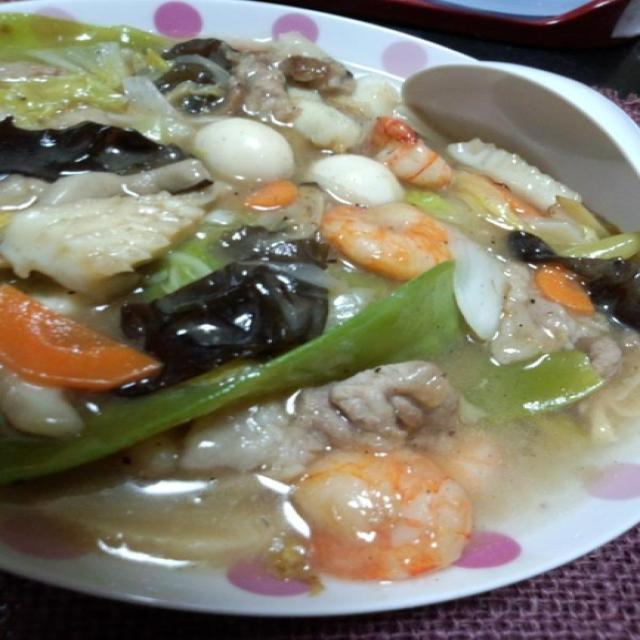面条主食: (44, 0, 624, 640)
